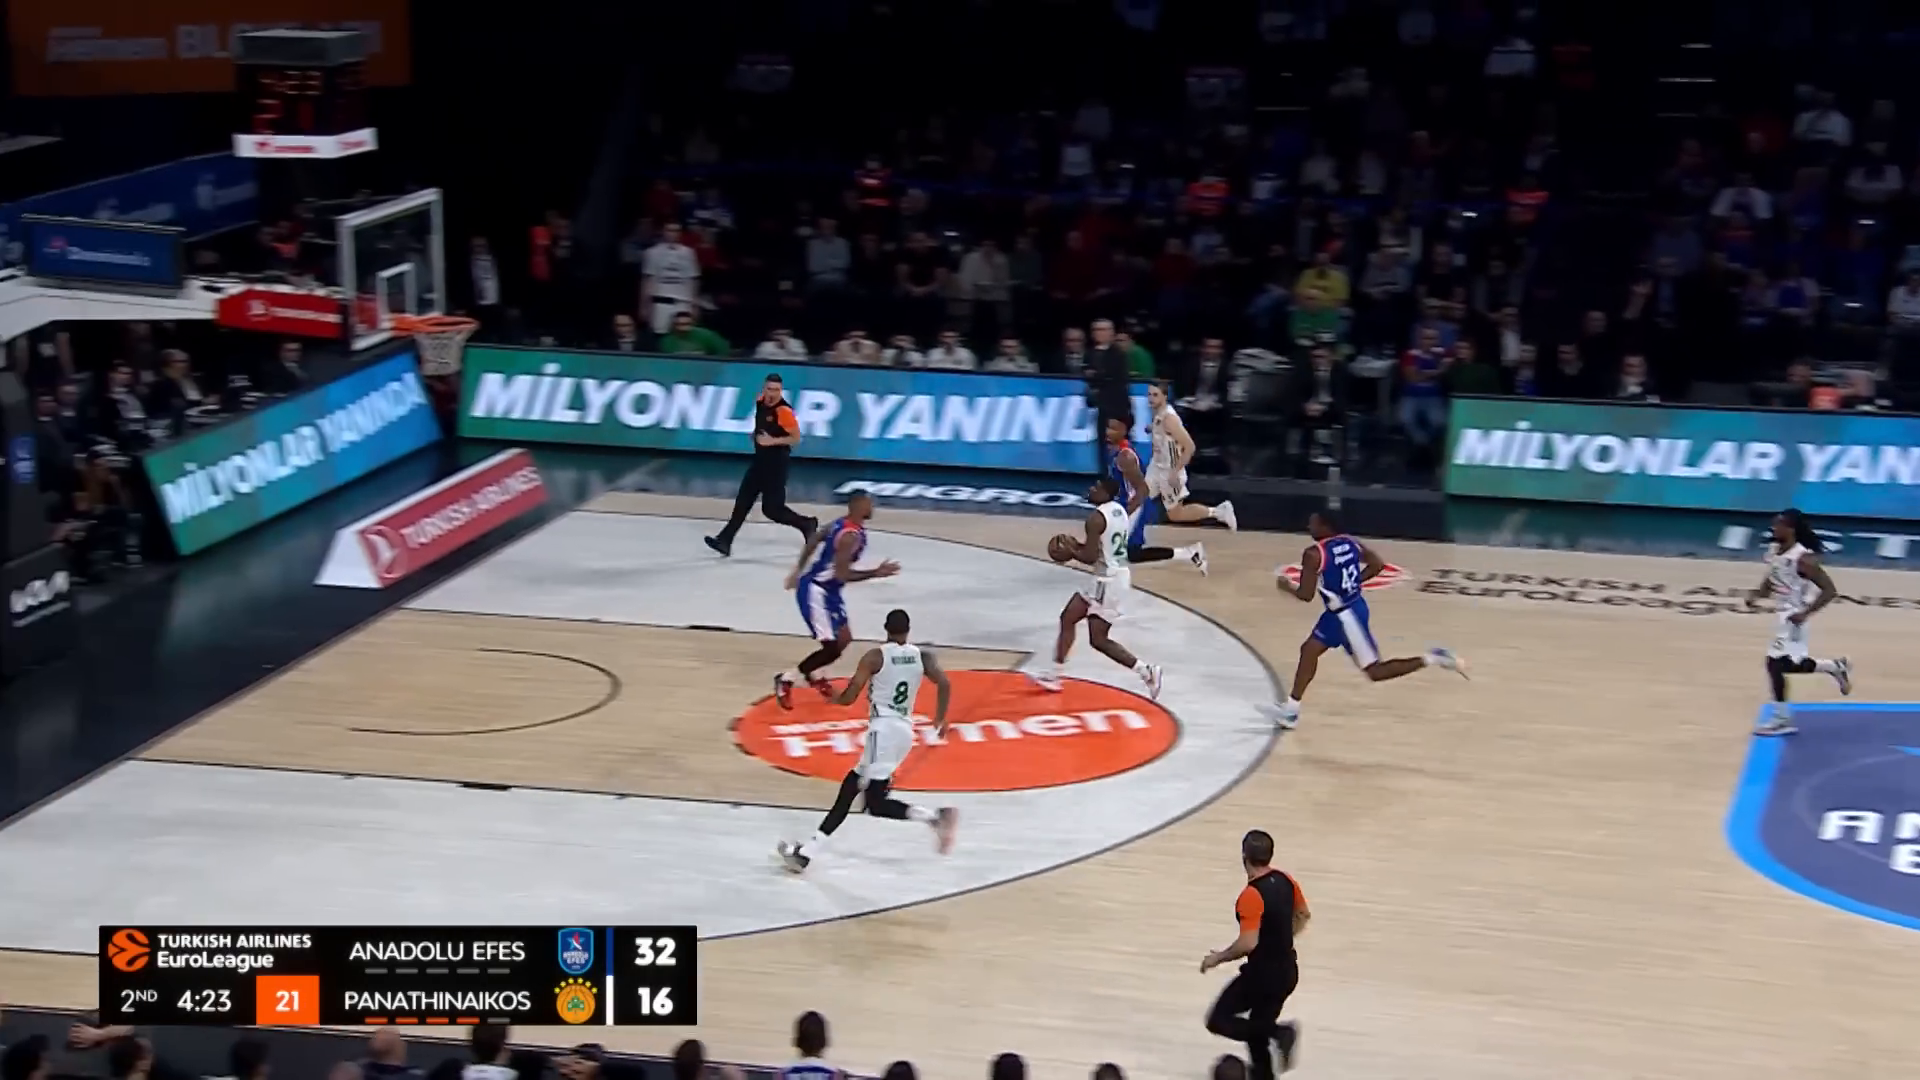ball: (1044, 530, 1083, 568)
net: (409, 314, 477, 377)
